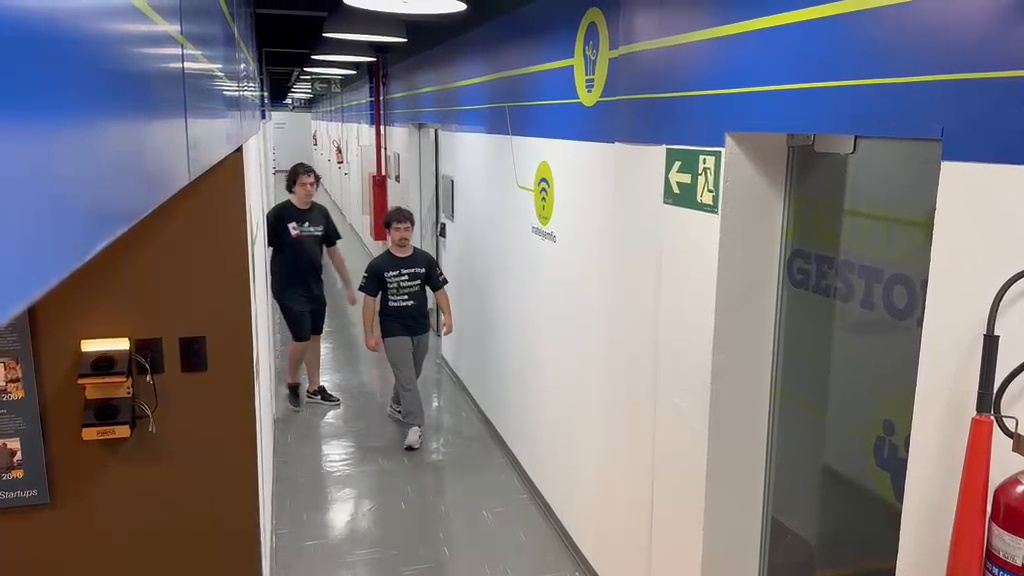person: (358, 205, 453, 449), (265, 164, 354, 408)
